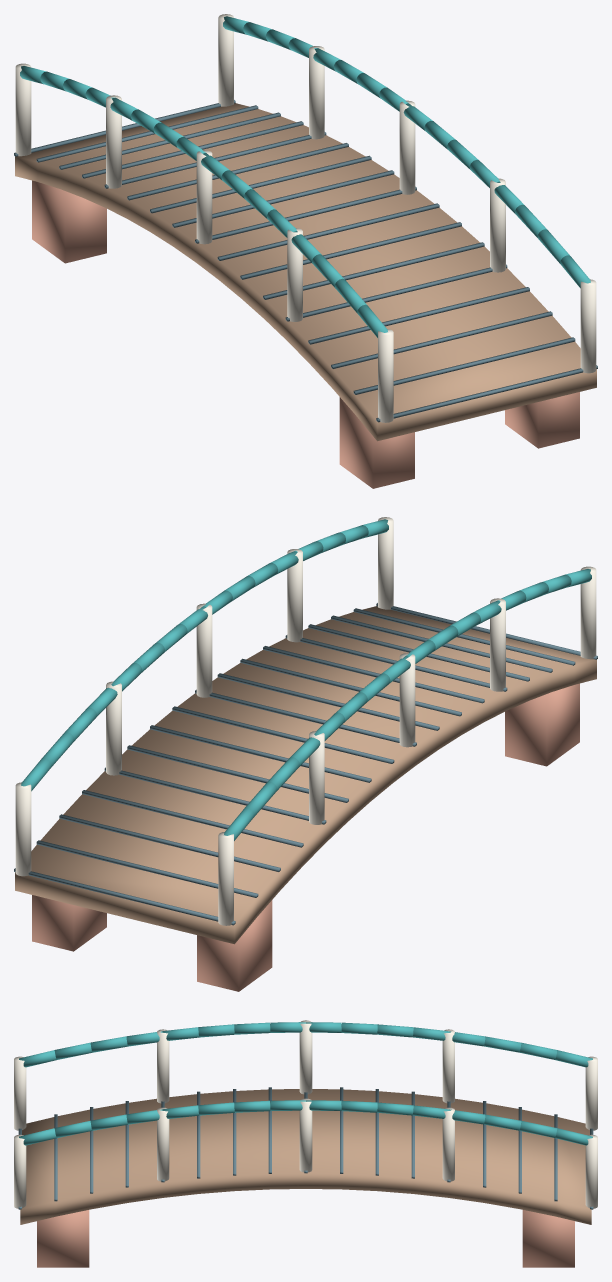
The model's file is bridge.glb.
3 views of the same model, one above another, from view 1: azimuth 30°, elevation 25°; view 2: azimuth 150°, elevation 25°; view 3: azimuth 270°, elevation 25° (orthographic). The views are drawn at different scales.
Parts seen in each view (by area): view 1: arched_deck, pier_-1_-2.55, pier_-1_2.55, pier_1_2.55, rail_post_1_16, rail_post_-1_16, rail_post_-1_8, rail_post_1_8, rail_post_-1_0, rail_post_-1_4, rail_post_1_4, rail_post_1_0 (+19 smaller); view 2: arched_deck, pier_-1_2.55, pier_-1_-2.55, pier_1_-2.55, rail_post_1_0, rail_post_-1_0, rail_post_-1_8, rail_post_1_8, rail_post_-1_16, rail_post_-1_12, rail_post_1_16, rail_post_1_12 (+19 smaller); view 3: arched_deck, pier_1_-2.55, pier_1_2.55, rail_post_1_8, rail_post_-1_8, rail_post_-1_0, rail_post_-1_16, rail_post_1_0, rail_post_1_16, rail_post_1_4, rail_post_-1_12, rail_post_1_12 (+33 smaller).
Boxes of the visible parts, bbox=[...] form: arched_deck: bbox=[15, 103, 596, 441]; pier_-1_-2.55: bbox=[32, 180, 106, 263]; pier_-1_2.55: bbox=[339, 397, 414, 488]; pier_1_2.55: bbox=[505, 392, 579, 448]; rail_post_1_16: bbox=[580, 279, 596, 373]; rail_post_-1_16: bbox=[378, 329, 393, 422]; rail_post_-1_8: bbox=[196, 150, 212, 244]; rail_post_1_8: bbox=[399, 100, 415, 194]; rail_post_-1_0: bbox=[15, 63, 31, 156]; rail_post_-1_4: bbox=[106, 95, 121, 188]; rail_post_1_4: bbox=[309, 46, 324, 139]; rail_post_1_0: bbox=[218, 14, 233, 106]; arched_deck: bbox=[15, 606, 596, 944]; pier_-1_2.55: bbox=[505, 683, 579, 766]; pier_-1_-2.55: bbox=[197, 900, 272, 991]; pier_1_-2.55: bbox=[32, 895, 106, 951]; rail_post_1_0: bbox=[15, 782, 31, 876]; rail_post_-1_0: bbox=[218, 832, 233, 925]; rail_post_-1_8: bbox=[399, 653, 415, 747]; rail_post_1_8: bbox=[196, 603, 212, 697]; rail_post_-1_16: bbox=[580, 566, 596, 659]; rail_post_-1_12: bbox=[490, 598, 505, 691]; rail_post_1_16: bbox=[378, 517, 393, 609]; rail_post_1_12: bbox=[287, 549, 302, 642]; arched_deck: bbox=[20, 1089, 591, 1224]; pier_1_-2.55: bbox=[522, 1210, 574, 1267]; pier_1_2.55: bbox=[37, 1210, 89, 1267]; rail_post_1_8: bbox=[299, 1098, 312, 1172]; rail_post_-1_8: bbox=[299, 1020, 312, 1094]; rail_post_-1_0: bbox=[585, 1056, 597, 1130]; rail_post_-1_16: bbox=[14, 1056, 26, 1130]; rail_post_1_0: bbox=[585, 1134, 597, 1208]; rail_post_1_16: bbox=[14, 1134, 26, 1208]; rail_post_1_4: bbox=[442, 1107, 454, 1181]; rail_post_-1_12: bbox=[157, 1029, 169, 1103]; rail_post_1_12: bbox=[157, 1107, 169, 1181].
Size of the model in its own units: 2.1 by 1.92 by 6.13.
